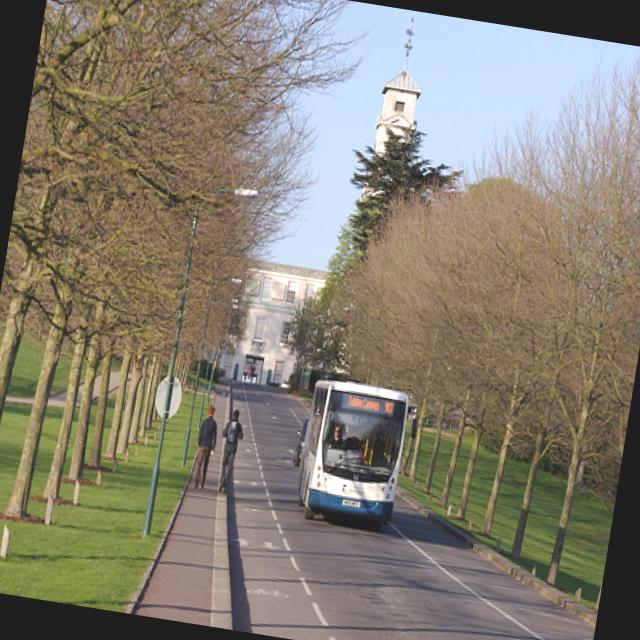Vehicle: (293, 376, 422, 535)
